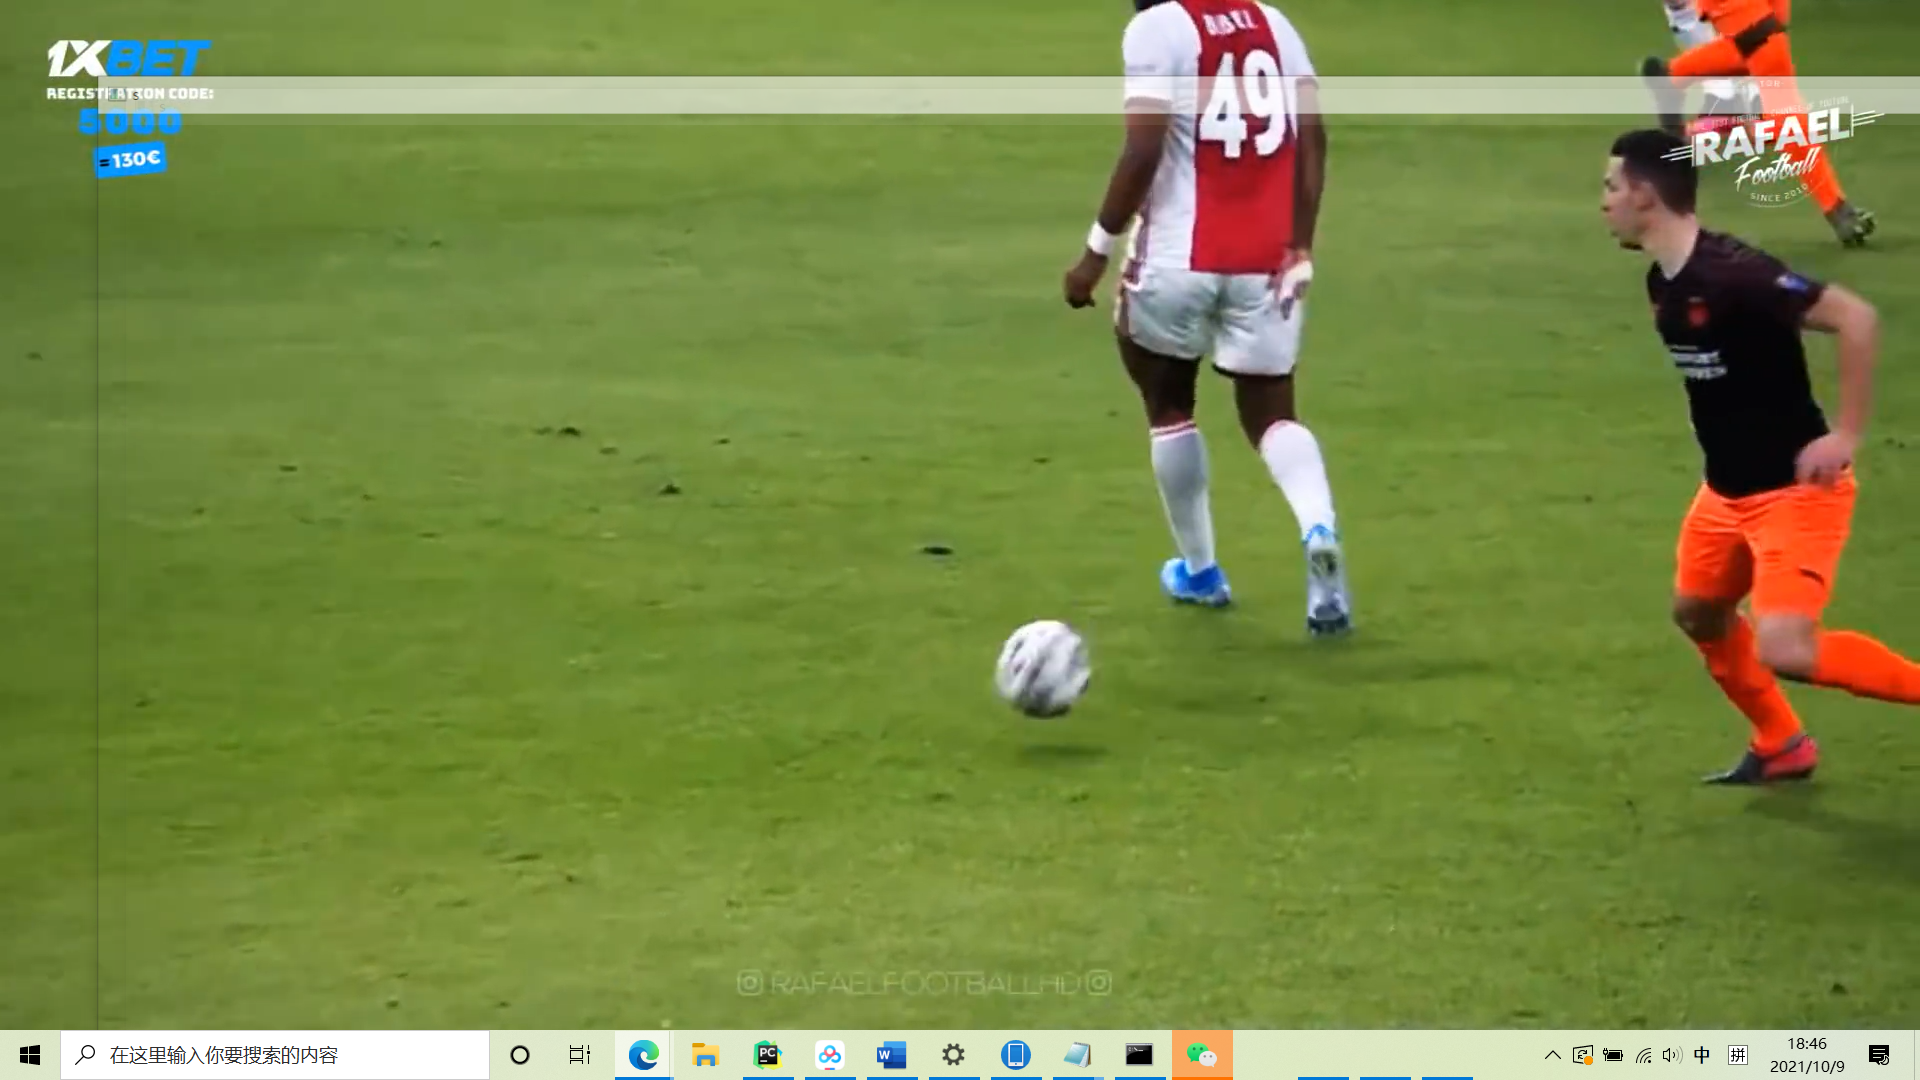ft: (986, 605, 1100, 727)
